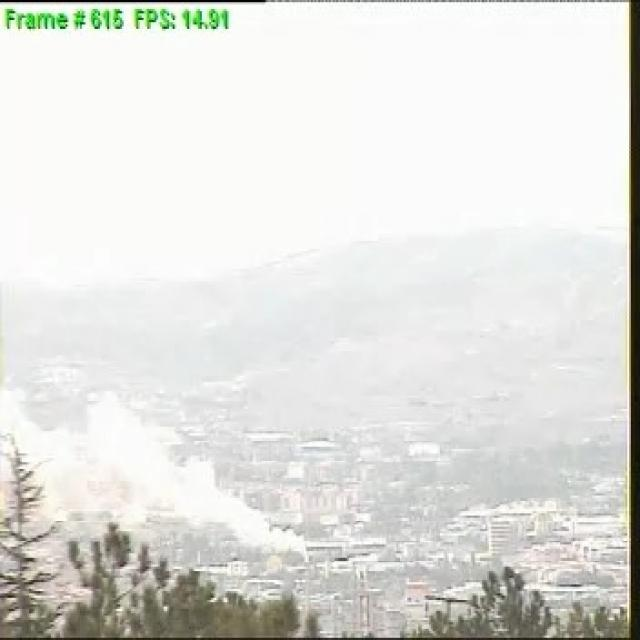smoke: (84, 397, 308, 540)
